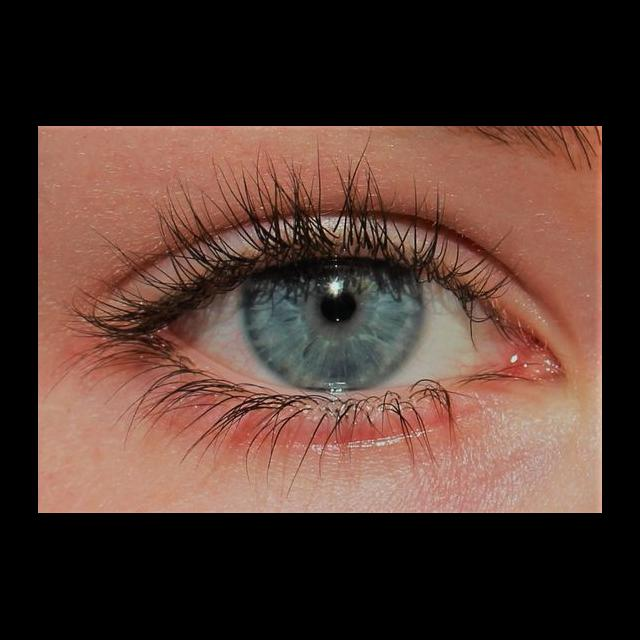eye: (174, 261, 515, 393)
iris: (244, 267, 422, 390)
